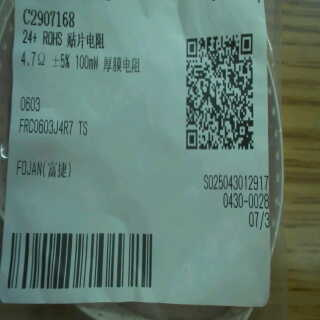4.7R: (19, 49, 49, 72)
